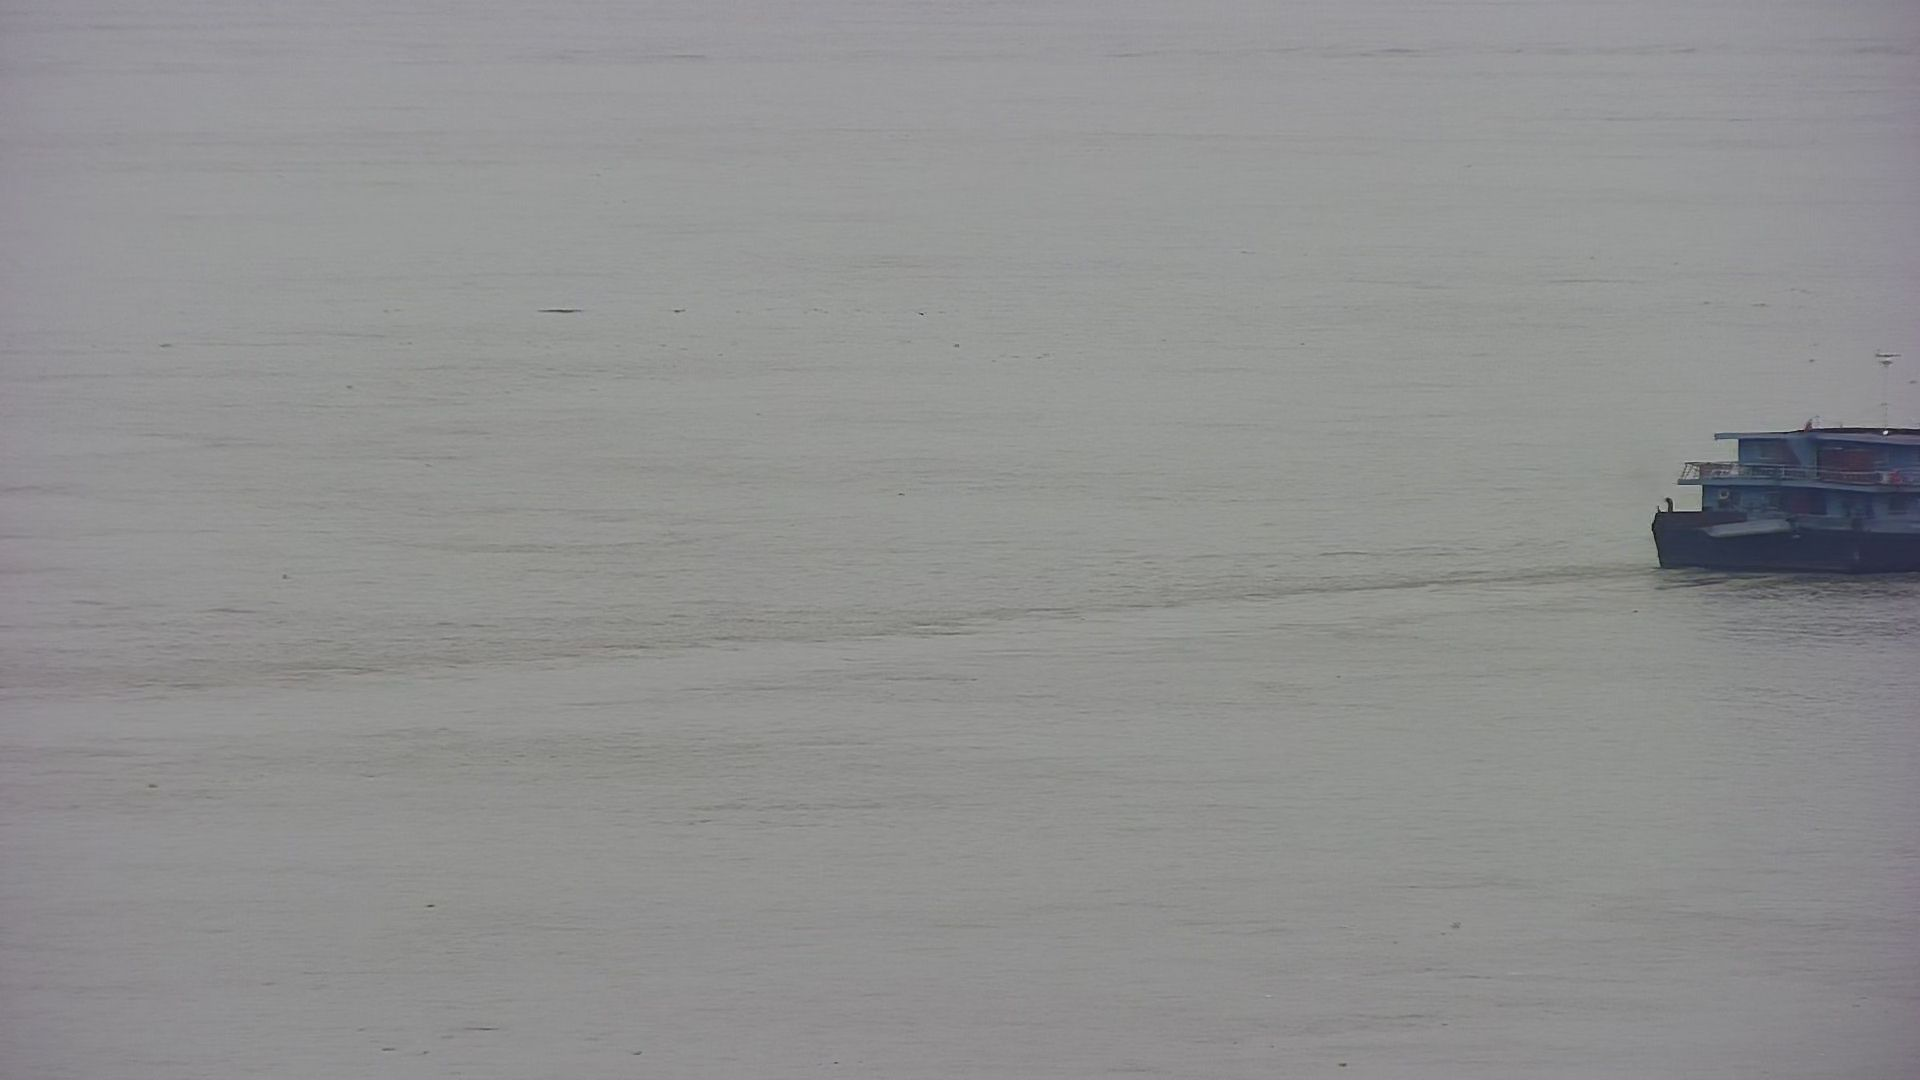ship: (1644, 425, 1920, 584)
